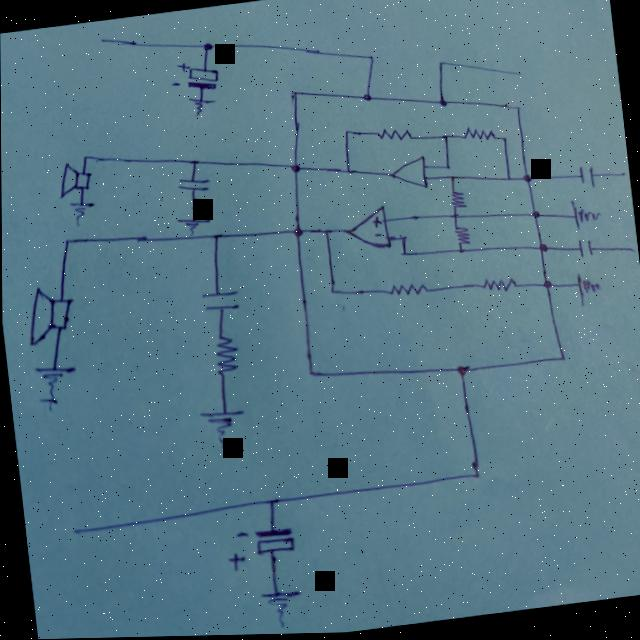capacitor: (222, 519, 299, 573), (167, 56, 219, 93), (200, 285, 239, 314), (176, 172, 212, 193), (576, 163, 596, 190), (572, 240, 597, 260)
ground: (196, 404, 247, 452), (257, 584, 306, 631), (33, 359, 79, 408), (573, 271, 604, 305), (568, 200, 601, 231), (68, 197, 96, 226), (175, 214, 209, 236), (186, 96, 214, 115)
junction: (449, 360, 472, 379), (287, 221, 306, 242), (285, 158, 304, 176), (538, 274, 554, 294), (532, 240, 550, 257), (431, 94, 450, 110), (184, 153, 202, 169), (261, 492, 277, 509), (357, 90, 375, 105), (518, 172, 537, 186), (198, 40, 215, 54), (78, 148, 92, 163), (527, 209, 542, 222), (304, 365, 317, 379), (469, 468, 482, 482), (207, 231, 222, 243), (287, 87, 300, 100), (59, 235, 72, 247), (557, 352, 568, 365), (326, 284, 337, 297), (342, 166, 353, 178), (319, 226, 331, 237), (340, 127, 351, 138), (397, 234, 408, 245), (439, 132, 450, 143), (447, 173, 457, 184), (435, 59, 445, 70), (365, 53, 375, 64), (397, 249, 408, 258), (499, 135, 508, 146), (449, 212, 459, 221), (442, 162, 451, 172), (513, 105, 522, 115), (503, 175, 512, 184), (456, 246, 464, 256)
resistor: (209, 332, 241, 378), (477, 273, 519, 296), (460, 122, 500, 145), (384, 279, 426, 300), (374, 124, 413, 143), (450, 221, 471, 248), (449, 187, 469, 212), (188, 192, 207, 216)
terminal: (66, 521, 84, 539), (624, 245, 638, 256), (95, 34, 108, 45), (614, 170, 627, 181), (512, 69, 523, 79)
